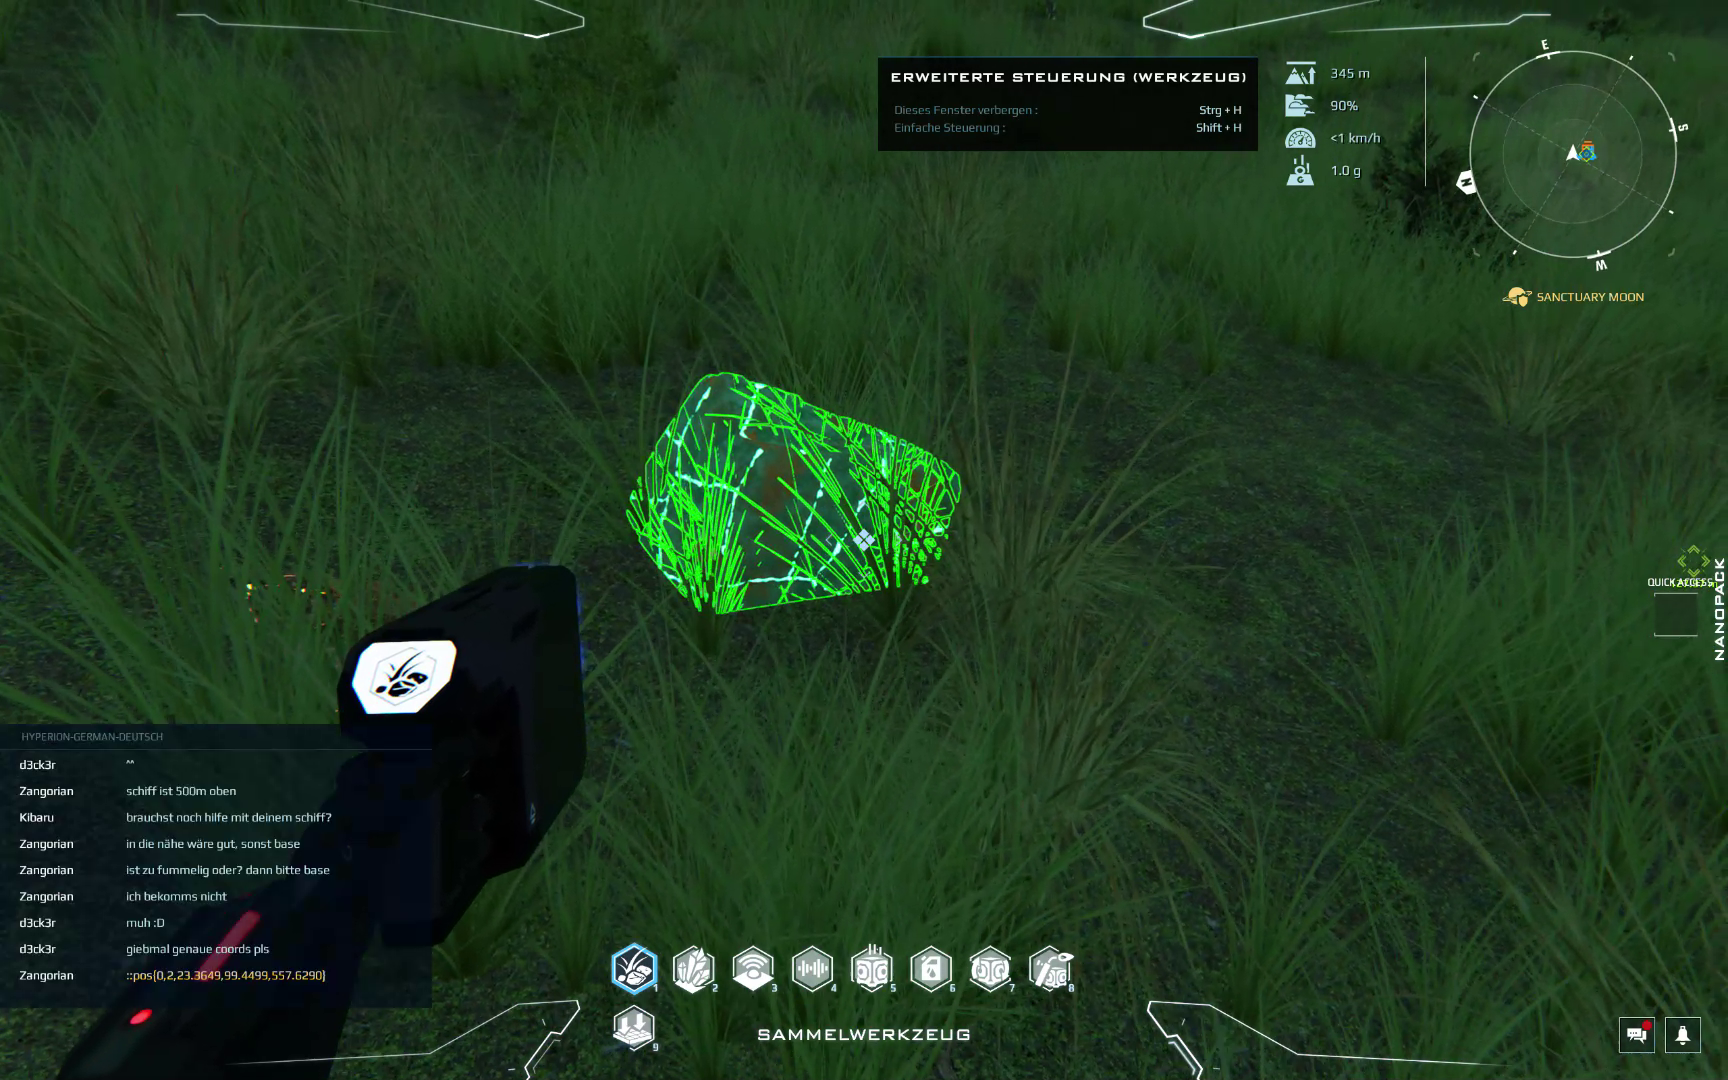Ore: (625, 372, 962, 610)
